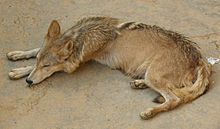wolf: (2, 16, 220, 123)
